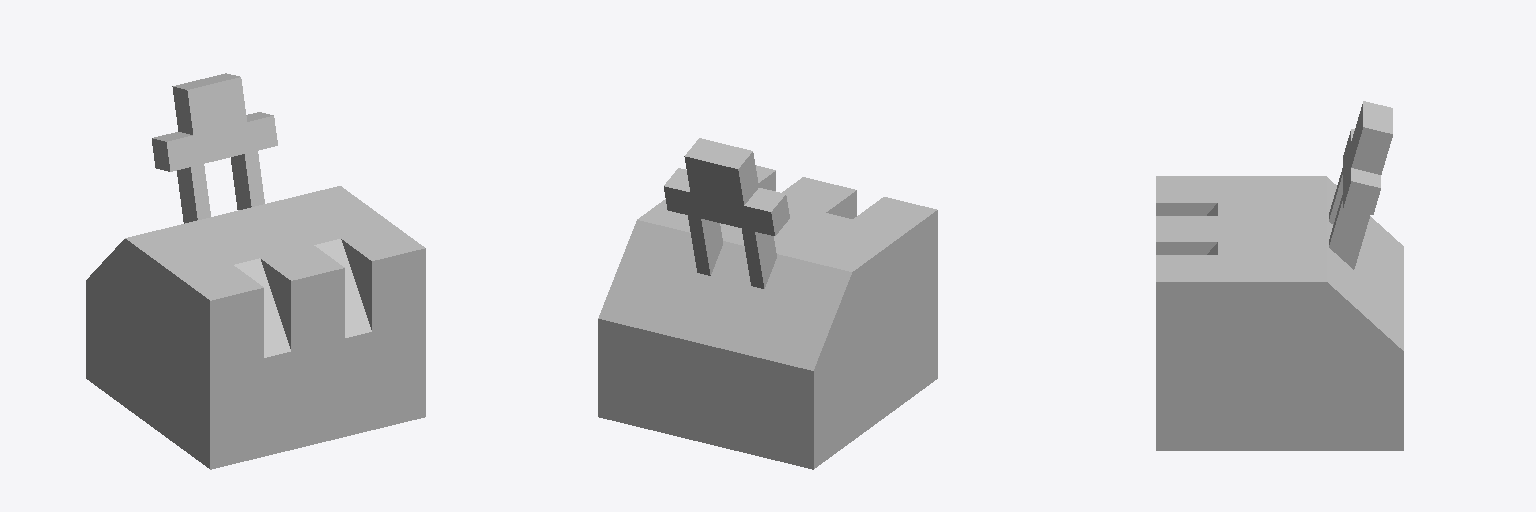
Rendered from ruined_machine_switch.obj.
3 views of the same model, side by side, from view 1: azimuth 30°, elevation 25°; view 2: azimuth 150°, elevation 25°; view 3: azimuth 270°, elevation 25° (orthographic).
Parts seen in each view (by area): view 1: RuinedMachine1, switch; view 2: RuinedMachine1, switch; view 3: RuinedMachine1, switch.
Boxes of the visible parts, x1,y1,x2,y2 form: RuinedMachine1: [86, 186, 425, 469]; switch: [152, 73, 277, 223]; RuinedMachine1: [598, 165, 937, 469]; switch: [664, 138, 789, 288]; RuinedMachine1: [1156, 176, 1403, 450]; switch: [1329, 101, 1392, 269].
Bounding box in the file's own units: 1 × 1.26 × 1.